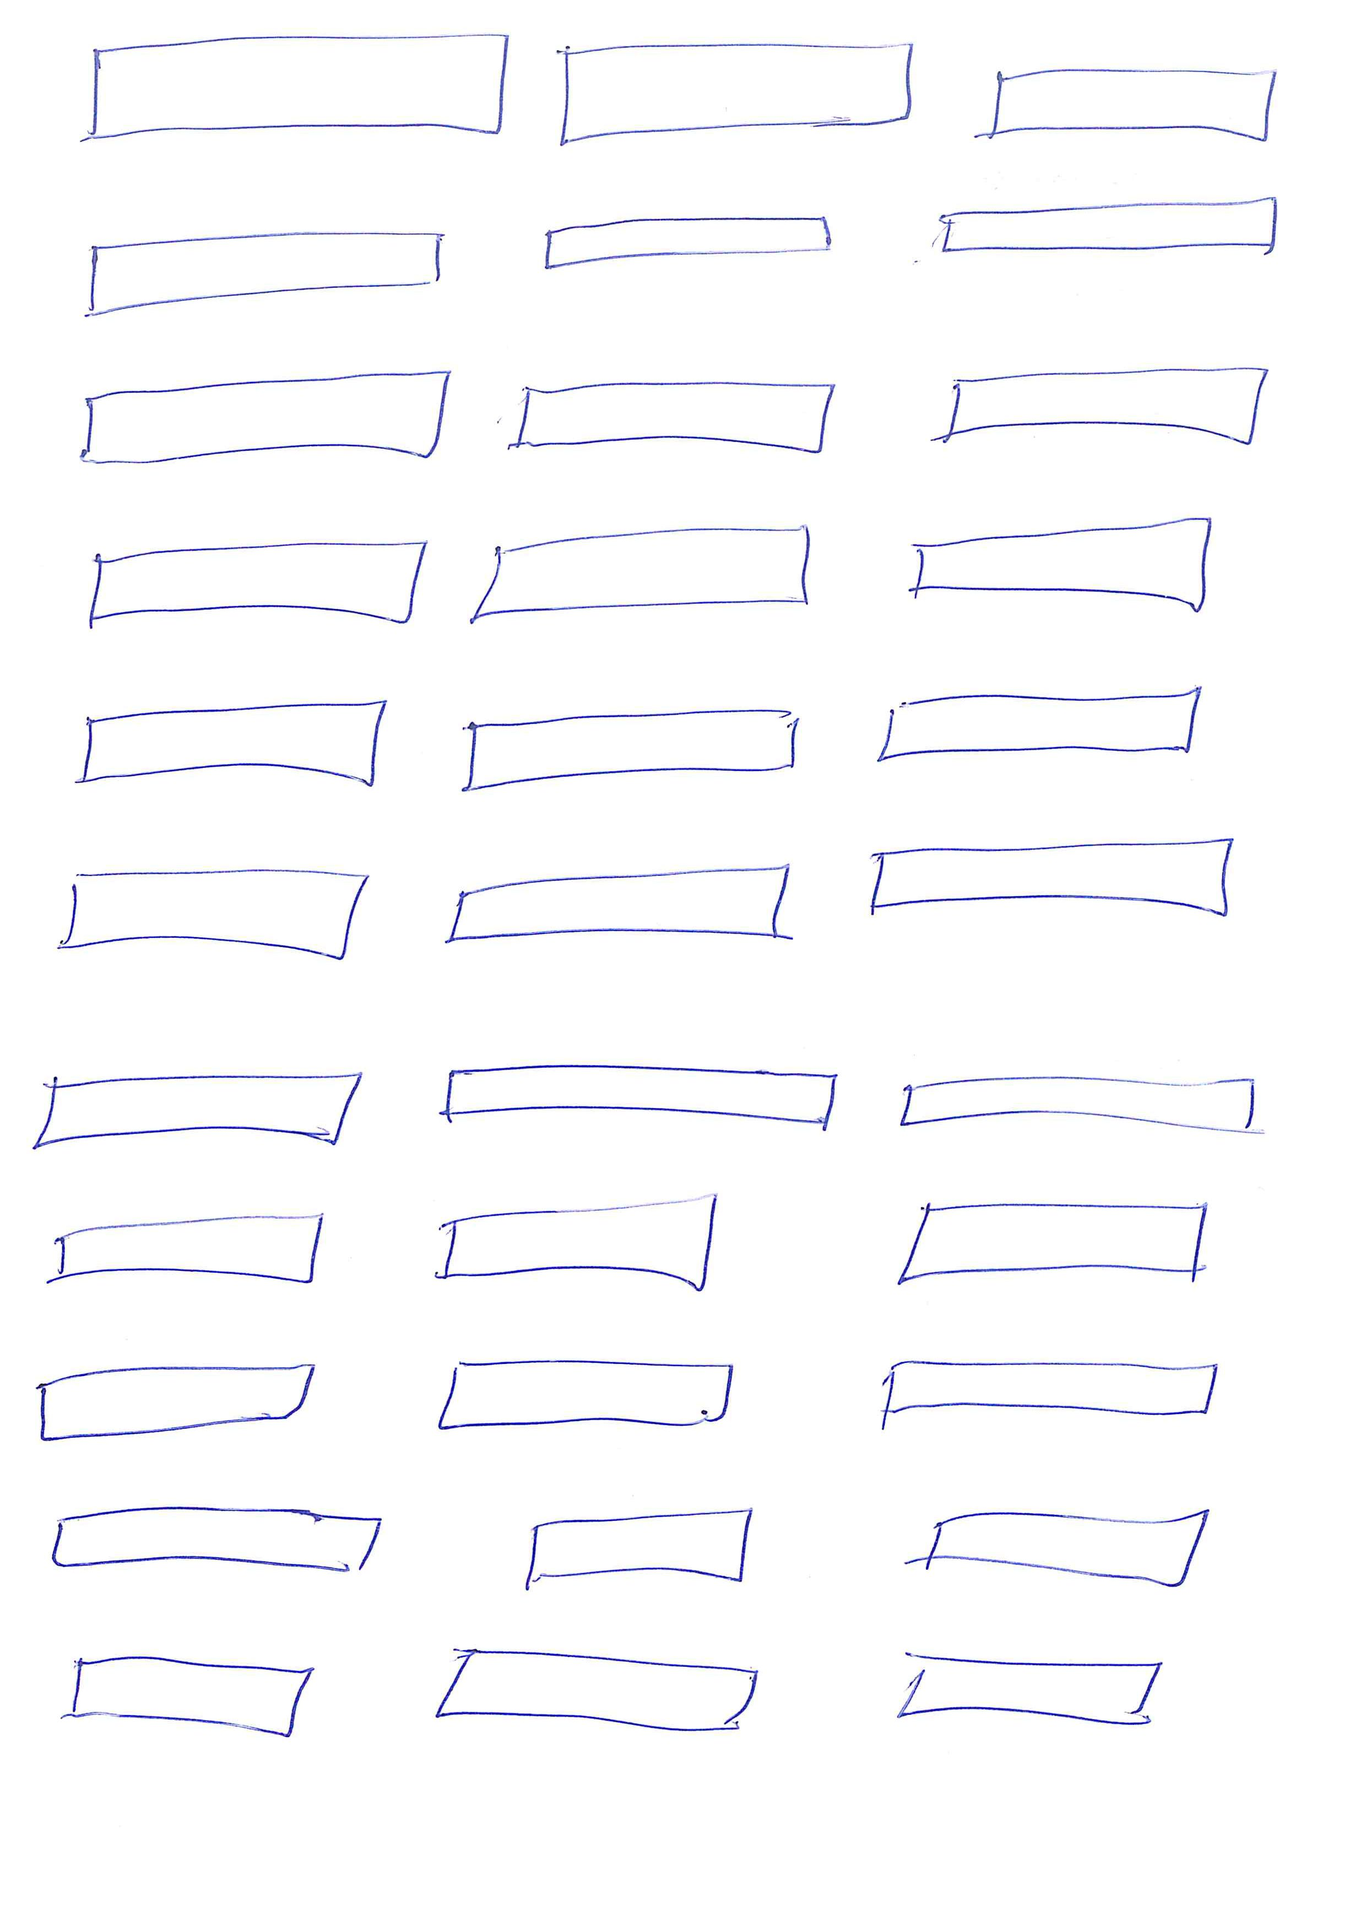Textbox: (89, 31, 510, 140), (557, 40, 915, 146), (78, 368, 451, 467), (469, 525, 812, 625), (84, 229, 444, 319), (869, 835, 1234, 920), (56, 866, 371, 961), (911, 515, 1214, 612), (461, 708, 798, 794), (432, 1646, 761, 1733), (87, 540, 429, 622), (30, 1070, 362, 1155), (78, 699, 390, 788), (894, 1199, 1209, 1286), (444, 866, 792, 943), (942, 367, 1268, 447), (441, 1062, 838, 1127), (874, 688, 1200, 764), (513, 380, 837, 455), (899, 1073, 1258, 1138), (49, 1505, 383, 1575), (986, 68, 1279, 143), (435, 1360, 735, 1433), (69, 1653, 319, 1737), (894, 1650, 1165, 1725), (939, 197, 1280, 254), (883, 1360, 1220, 1418), (56, 1212, 324, 1283), (544, 214, 832, 272)
